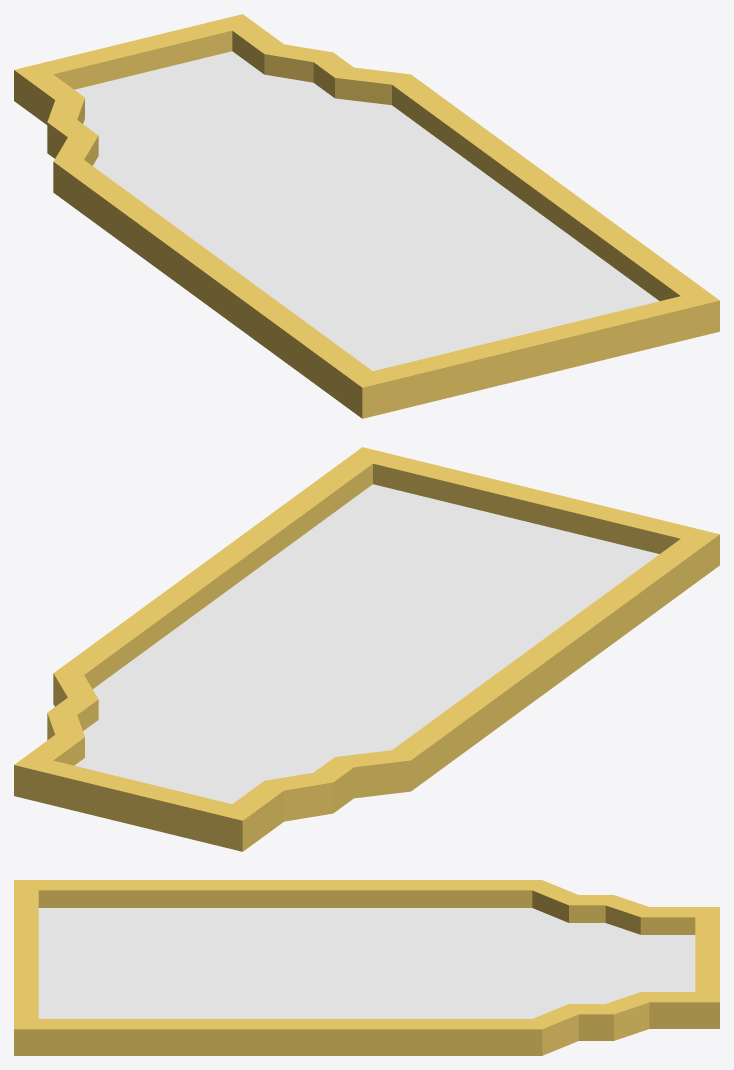
The model's file is mirror_collectible.glb.
The picture shows the model from 3 angles, top to bottom: view 1: azimuth 30°, elevation 25°; view 2: azimuth 150°, elevation 25°; view 3: azimuth 270°, elevation 25°; orthographic projection. The views are drawn at different scales.
Visible parts, largest first — view 1: Plane; view 2: Plane; view 3: Plane.
Part boxes in pixels (<box>): Plane: <box>14,14,719,418</box>; Plane: <box>14,447,719,851</box>; Plane: <box>14,880,719,1055</box>.
Size of the model in its own units: 2 by 0.1662 by 4.
Materials: 2 (2 with a texture image).
